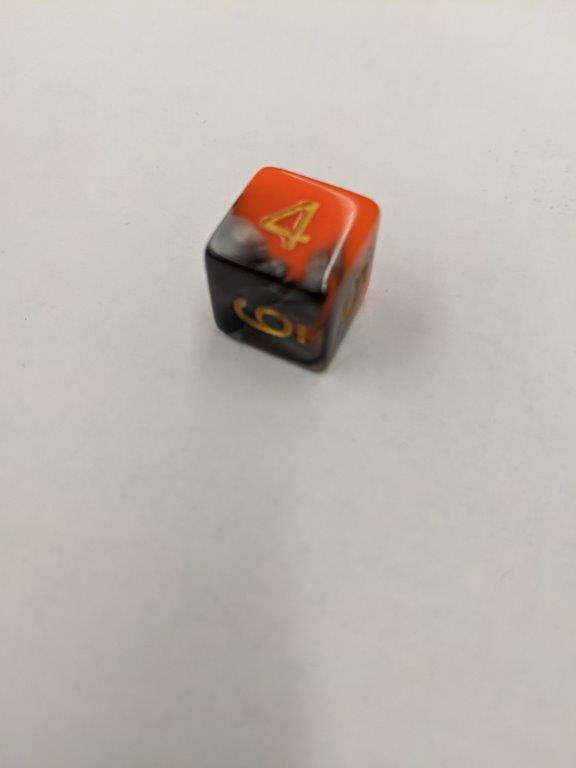d6-4: (203, 165, 381, 372)
